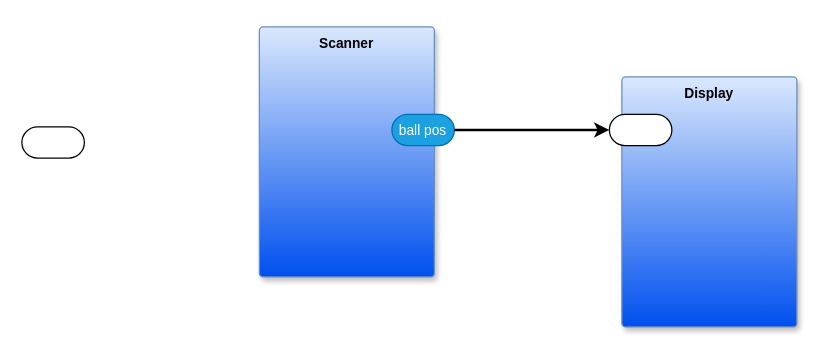
Image size: 826x358. Some labels were removed from this diagram. The shapes that lost their labels are listed below. From the top down, each one's centre as x and y in pixels, then its label:
point (52, 142): smack L
point (640, 129): ball position
